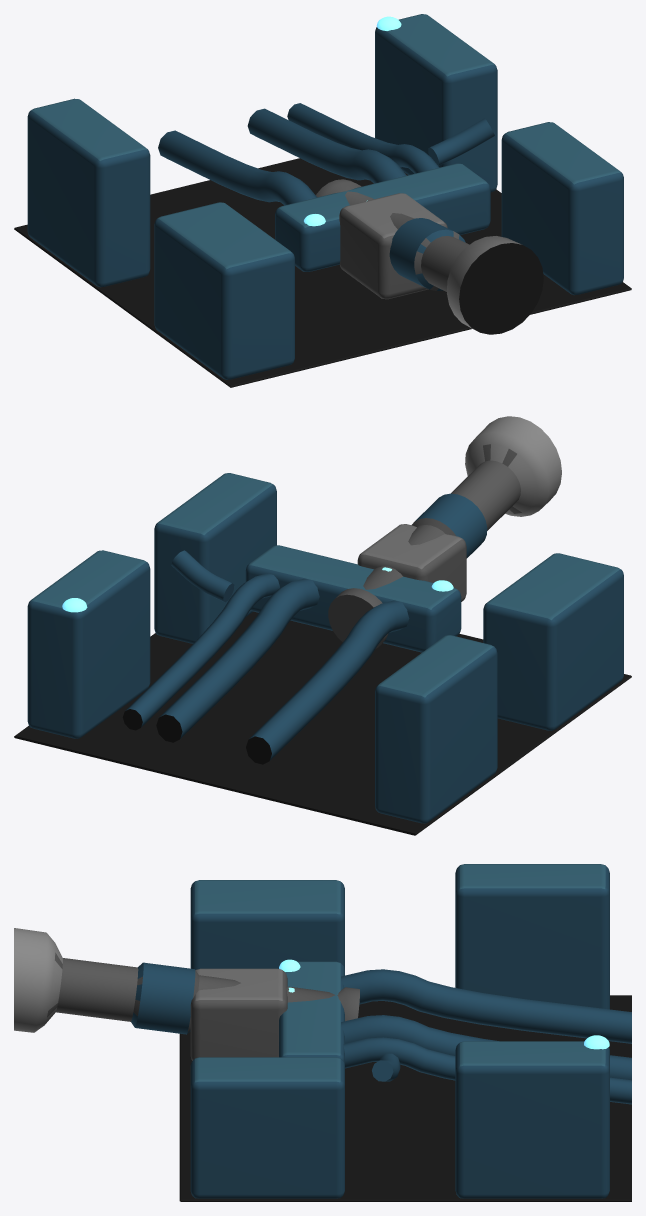
The model's file is gun_silo_83.glb.
3 renders of one model, top to bottom at view 1: azimuth 30°, elevation 25°; view 2: azimuth 150°, elevation 25°; view 3: azimuth 270°, elevation 25°, orthographic. The views are drawn at different scales.
Parts seen in each view (by area): view 1: bay_floor.001, pillar2.001, pillar0.001, pillar3.001, pillar1.001, barrel.001, cradle.001, breech.001, arm1.001, arm0.001, arm2.001, brace.001; view 2: bay_floor.001, pillar2.001, pillar0.001, pillar1.001, barrel.001, pillar3.001, cradle.001, arm0.001, arm1.001, arm2.001, breech.001, brace.001; view 3: pillar1.001, bay_floor.001, pillar3.001, pillar0.001, barrel.001, pillar2.001, arm0.001, breech.001, cradle.001, arm1.001, arm2.001, brace.001.
Part boxes in pixels (x1,y1,x2,y2): bay_floor.001: (14,158,631,387); pillar2.001: (154,202,294,379); pillar0.001: (27,98,150,287); pillar3.001: (501,122,623,295); pillar1.001: (375,14,497,192); barrel.001: (316,179,543,334); cradle.001: (275,163,490,271); breech.001: (339,193,447,299); arm1.001: (247,108,406,183); arm0.001: (158,130,317,205); arm2.001: (287,103,439,173); brace.001: (428,118,494,165); bay_floor.001: (14,611,631,835); pillar2.001: (483,553,623,730); pillar0.001: (375,635,497,823); pillar1.001: (27,550,150,738); barrel.001: (328,416,561,648); pillar3.001: (154,473,276,643); cradle.001: (245,545,461,652); arm0.001: (246,600,409,764); arm1.001: (156,578,319,742); arm2.001: (122,573,279,730); breech.001: (357,524,466,601); brace.001: (171,550,234,602); pillar1.001: (455,1041,609,1198); bay_floor.001: (179,995,631,1201); pillar3.001: (190,1057,344,1198); pillar0.001: (455,864,609,1009); barrel.001: (14,928,359,1034); pillar2.001: (190,880,344,969); arm0.001: (341,969,631,1043); breech.001: (190,968,287,1060); cradle.001: (279,961,344,1064); arm1.001: (341,1015,631,1080); arm2.001: (343,1037,631,1104); brace.001: (372,1053,400,1081).
Size of the model in its own units: 22 by 8.13 by 28.
